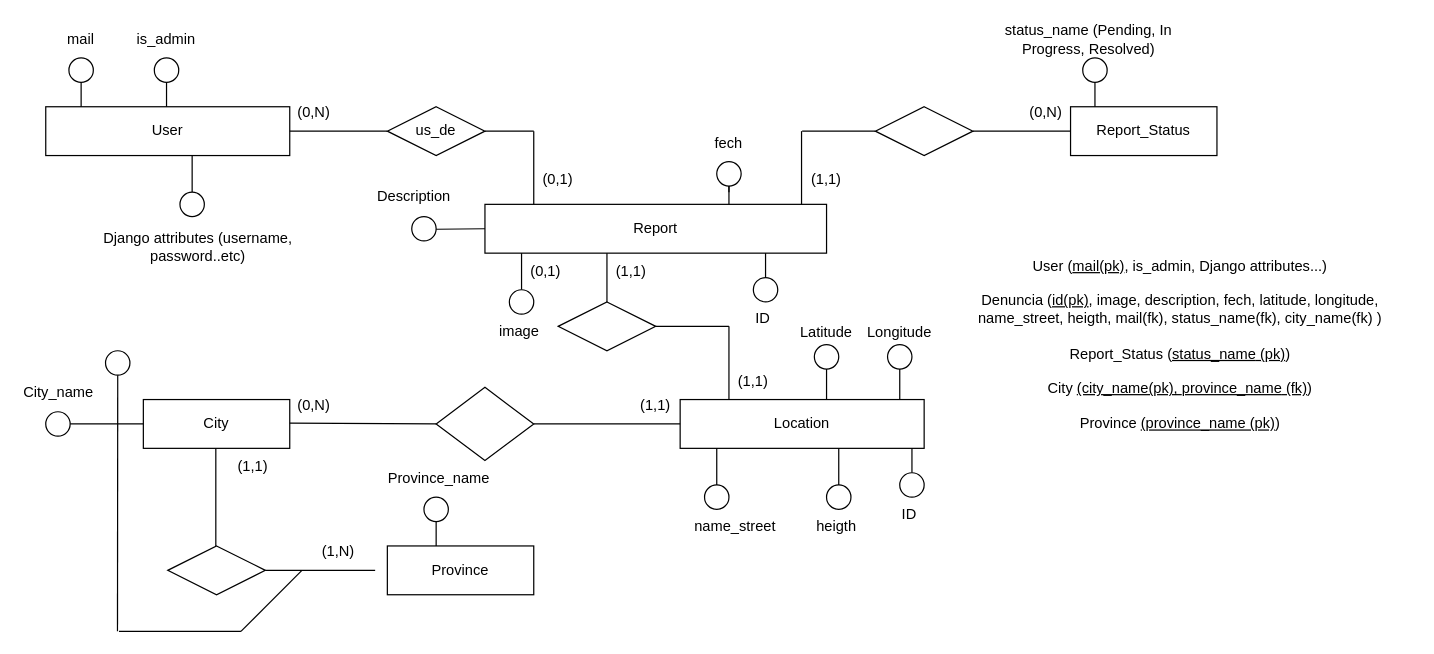
This 1434x654 diagram has some shape labels left out. Each missing label, with the centre of its shape:
ci_pr: the point at 216,570
ci_ub: the point at 484,423
de_ed: the point at 923,131
de_ub: the point at 606,326
